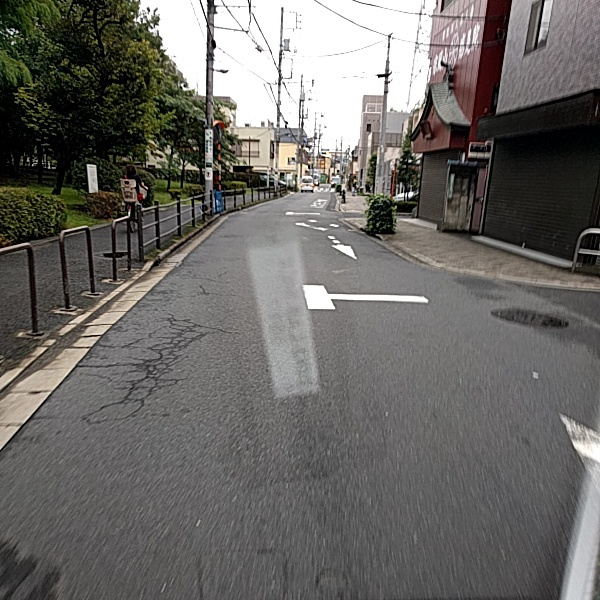D20: (87, 281, 226, 432)
